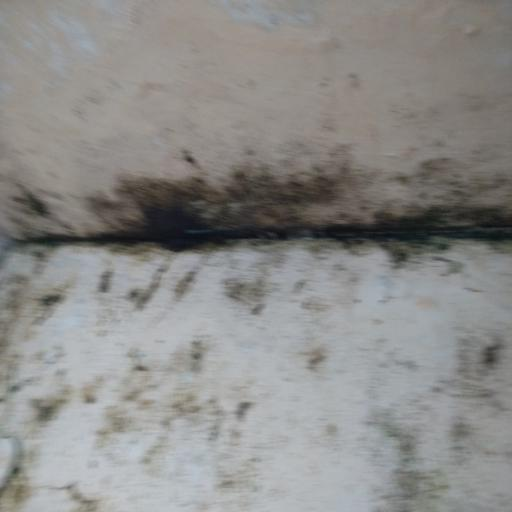algae: (0, 126, 512, 329)
